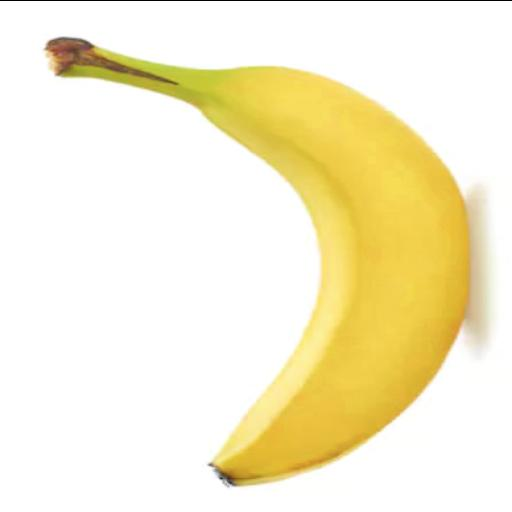banana: (47, 39, 468, 485)
